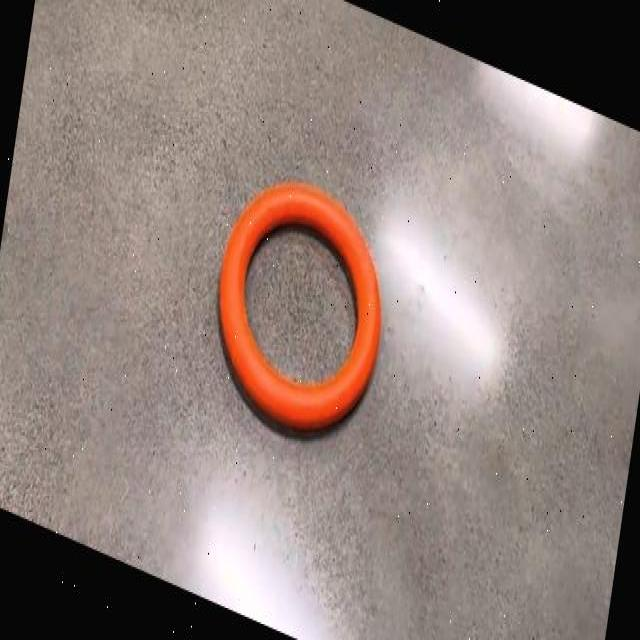note: (219, 184, 382, 430)
